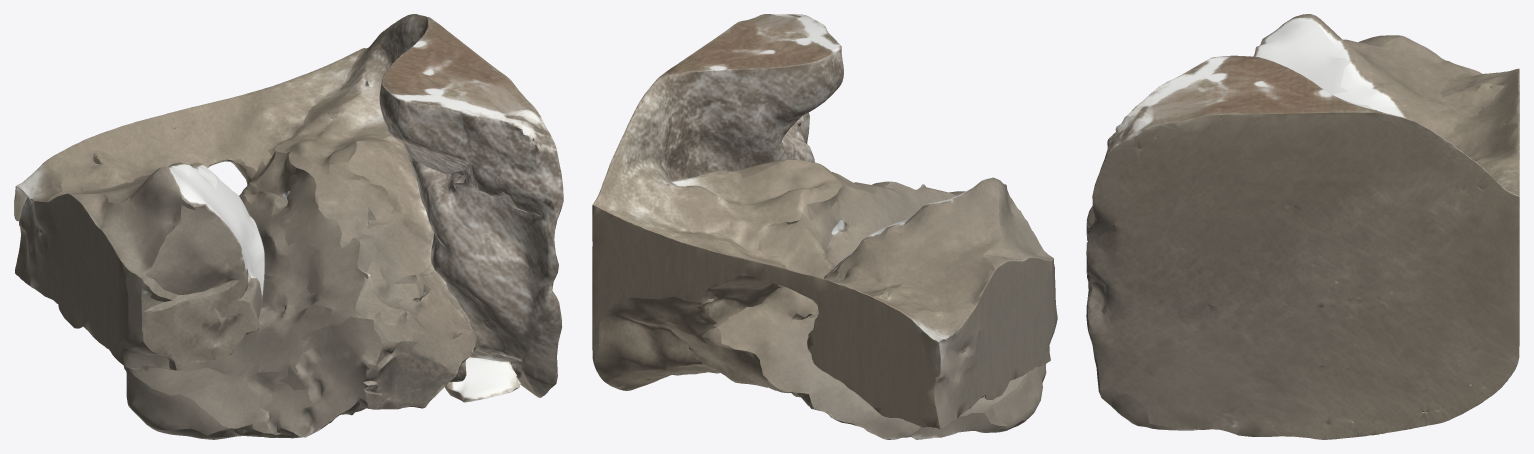
3 renders of one model, left to right at view 1: azimuth 30°, elevation 25°; view 2: azimuth 150°, elevation 25°; view 3: azimuth 270°, elevation 25°, orthographic. The views are drawn at different scales.
Visible parts, largest first — view 1: world; view 2: world; view 3: world.
Part boxes in pixels (bbox=[...]): world: bbox=[14, 14, 563, 439]; world: bbox=[592, 14, 1057, 439]; world: bbox=[1086, 14, 1519, 439].
Size of the model in its own units: 0.8 by 0.6708 by 0.8003.
1 material, 1 textured.
